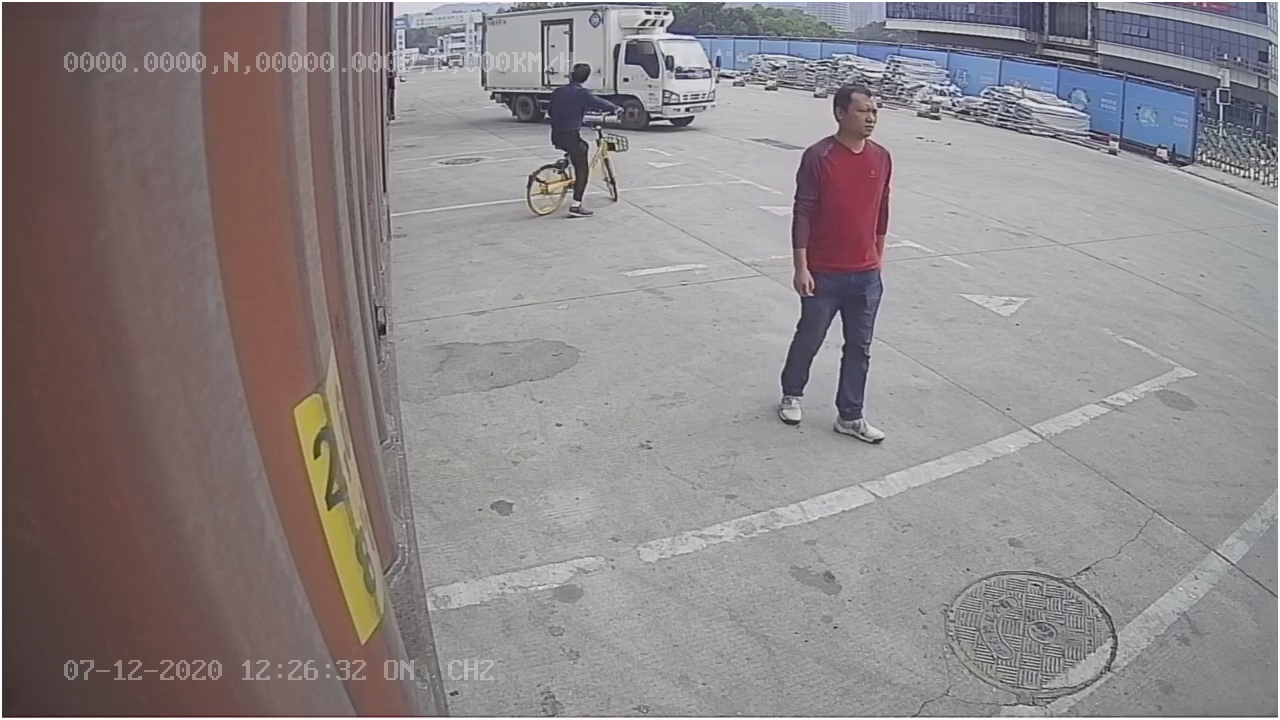person: (764, 82, 898, 449)
